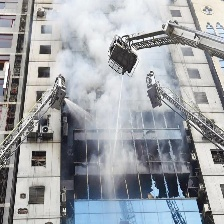smoke: (55, 2, 182, 174)
